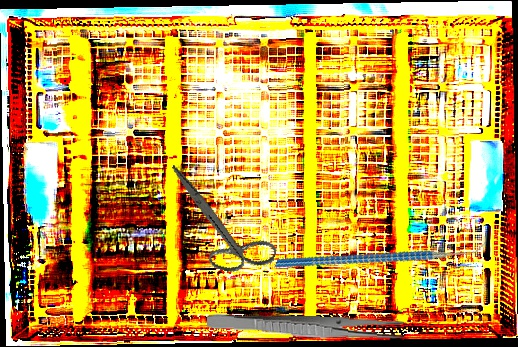Chopper: (274, 183, 488, 323)
Dressing Forceps: (206, 312, 405, 342)
Iris Scissors: (146, 164, 293, 285)
